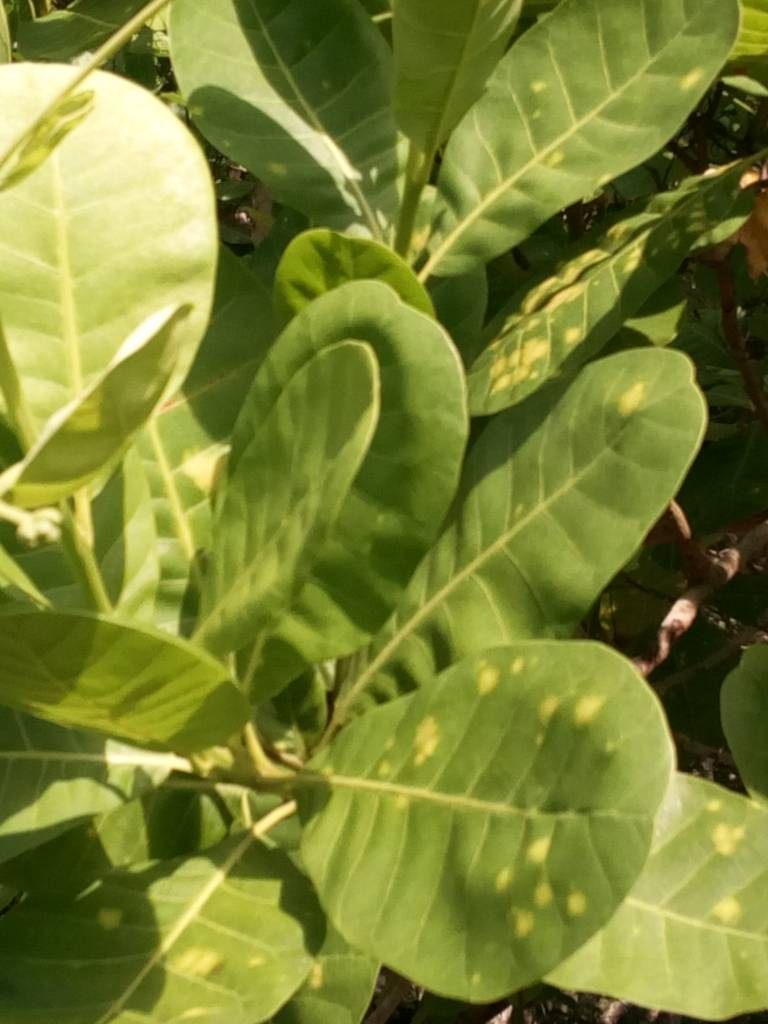Alternariose: (311, 642, 666, 997), (446, 139, 730, 410), (640, 771, 760, 1017)
